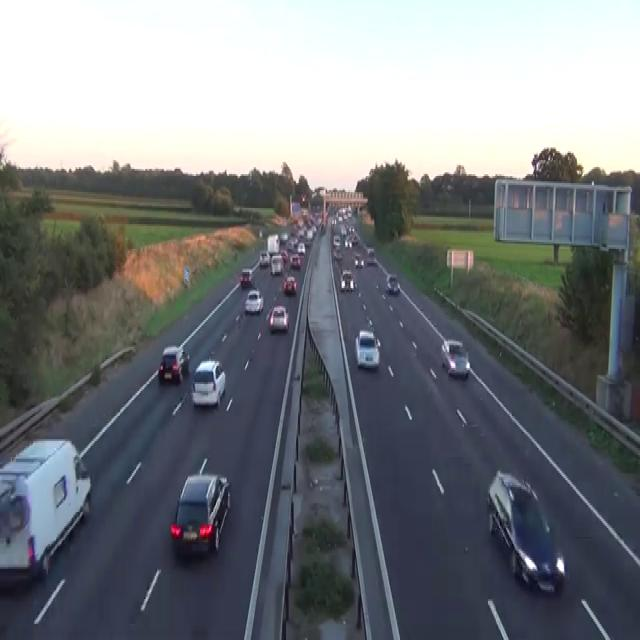Car: (281, 492, 364, 638), (486, 469, 565, 594), (169, 471, 231, 557), (190, 357, 226, 407), (158, 345, 189, 384), (440, 338, 470, 378), (355, 329, 380, 370), (266, 304, 289, 332), (244, 288, 263, 315), (340, 268, 356, 292), (239, 267, 253, 288), (270, 254, 283, 276), (385, 274, 400, 293), (282, 276, 297, 295), (259, 249, 270, 267), (289, 252, 301, 268), (287, 237, 298, 250), (354, 254, 364, 268), (367, 247, 375, 263), (333, 247, 342, 261), (280, 249, 288, 263), (366, 314, 373, 330), (279, 231, 287, 244), (367, 254, 376, 265), (297, 242, 305, 254), (332, 235, 340, 247), (300, 192, 307, 203), (321, 222, 326, 233), (344, 238, 350, 247), (259, 230, 262, 238)
Truck: (0, 437, 91, 587), (267, 233, 279, 254), (290, 201, 301, 217)
